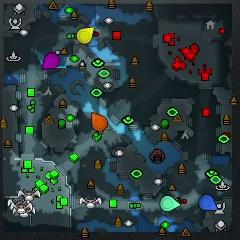p1: (200, 195, 216, 210)
p2: (161, 196, 180, 210)
p3: (41, 53, 59, 70)
p4: (77, 27, 95, 43)
p5: (91, 112, 108, 131)
